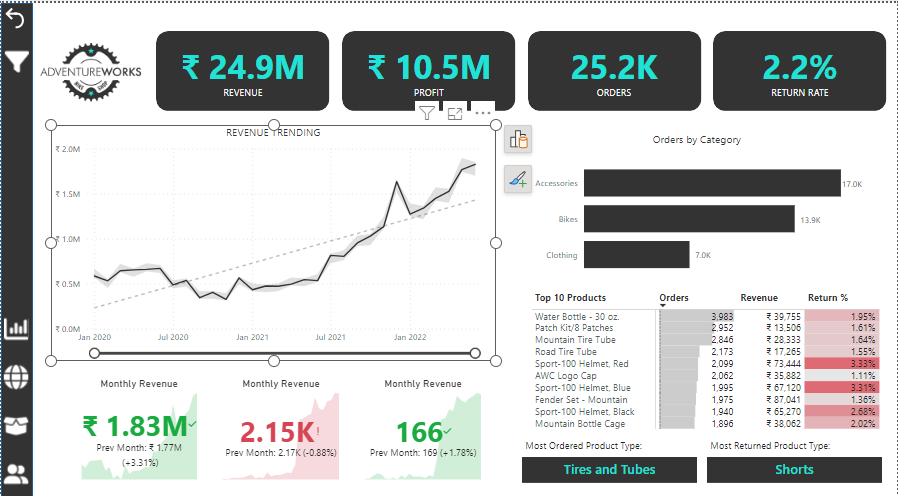

The page's visual inventory and layout, read from the dashboard file:
{"tool":"powerbi","page":{"name":"Exec Dashboard","canvas":[1280,720],"ordinal":0},"visuals":[{"type":"image","title":"AW Logo","box":[36.2,13,185.5,171],"z":0},{"type":"card","fields":{"Values":["Measure Table.Total Revenue"]},"box":[250.7,30.4,191.3,134.8],"z":0,"group":"g2"},{"type":"group","id":"g1","title":"KPI Background","box":[221.7,40.5,1043.5,114.5],"z":0,"group":"g3"},{"type":"shape","box":[487.4,40.5,247.8,114.5],"z":0,"group":"g1"},{"type":"actionButton","box":[0,444.1,43,43],"z":0,"group":"g4"},{"type":"shape","title":"Left Nav Background","box":[0,0,45.6,720.6],"z":1000},{"type":"group","id":"g2","title":"KPI Values","box":[250.7,30.4,987,134.8],"z":1000,"group":"g3"},{"type":"card","fields":{"Values":["Measure Table.Total Profit"]},"box":[515.9,30.4,191.3,134.8],"z":1000,"group":"g2"},{"type":"shape","box":[221.7,40.5,247.8,114.5],"z":1000,"group":"g1"},{"type":"actionButton","box":[0,651.5,43,43],"z":1000,"group":"g4"},{"type":"group","id":"g3","title":"KPIs","box":[221.7,30.4,1043.5,134.8],"z":2000},{"type":"card","fields":{"Values":["Measure Table.Total Orders"]},"box":[781.1,30.4,191.3,134.8],"z":2000,"group":"g2"},{"type":"shape","box":[1017.4,40.5,247.8,114.5],"z":2000,"group":"g1"},{"type":"actionButton","box":[0,513.2,43,43],"z":2000,"group":"g4"},{"type":"card","fields":{"Values":["Measure Table.Return Rate"]},"box":[1046.4,30.4,191.3,134.8],"z":3000,"group":"g2"},{"type":"shape","box":[753.1,40.5,247.8,114.5],"z":3000,"group":"g1"},{"type":"lineChart","title":"REVENUE TRENDING","fields":{"Y":["Measure Table.Total Revenue"],"Category":["Calendar Lookup.Start of Month"]},"box":[72,174.2,635,337],"z":3000},{"type":"actionButton","box":[0,582.3,43,43],"z":3000,"group":"g4"},{"type":"kpi","title":"Monthly Revenue","fields":{"Indicator":["Measure Table.Total Revenue"],"TrendLine":["Calendar Lookup.Start of Month"],"Goal":["Measure Table.Previous Months Revenue"]},"box":[110.3,535.3,175,150],"z":4000},{"type":"kpi","title":"Monthly Revenue","fields":{"TrendLine":["Calendar Lookup.Start of Month"],"Indicator":["Measure Table.Total Orders"],"Goal":["Measure Table.Previous Month Orders"]},"box":[313.2,535.3,175,150],"z":5000},{"type":"kpi","title":"Monthly Revenue","fields":{"TrendLine":["Calendar Lookup.Start of Month"],"Indicator":["Measure Table.Total Returns"],"Goal":["Measure Table.Previous Month Returns"]},"box":[516.2,535.3,175,150],"z":6000},{"type":"clusteredBarChart","title":"Orders by Category","fields":{"Category":["Product Categories Lookup.CategoryName"],"Y":["Measure Table.Total Orders"]},"box":[752.9,183.8,482.4,222.1],"z":7000},{"type":"pivotTable","fields":{"Values":["Measure Table.Total Orders","Measure Table.Total Revenue","Measure Table.Return Rate"],"Rows":["Product Lookup.ProductName"]},"box":[752.9,407.4,510,206],"z":8000},{"type":"card","fields":{"Values":["Min(Product Subcategories Lookup.SubcategoryName)"]},"box":[744.1,648.5,250,36.8],"z":9000},{"type":"textbox","box":[744.1,619.1,214.7,29.4],"z":10000},{"type":"card","fields":{"Values":["Min(Product Subcategories Lookup.SubcategoryName)"]},"box":[1008.5,648.2,250,36.8],"z":11000},{"type":"textbox","box":[1008.5,618.8,214.7,29.4],"z":12000},{"type":"actionButton","box":[0,1.5,45.6,39.7],"z":13000},{"type":"actionButton","box":[1,58.8,42.6,50],"z":14000},{"type":"group","id":"g4","title":"Navigation Button","box":[0,444.1,43,250.4],"z":16000}]}

Visuals, with their boxes on the page's 1280x720 design canvas (x1, y1, x2, y2). These are canvas units, not pixel positions in the 898x496 screenshot, which may show the page scaled, cropped or inside an application window:
"AW Logo" image: left=36, top=13, right=222, bottom=184
card - Measure Table.Total Revenue: left=251, top=30, right=442, bottom=165
"KPI Background" group: left=222, top=40, right=1265, bottom=155
shape: left=487, top=40, right=735, bottom=155
actionButton: left=0, top=444, right=43, bottom=487
"Left Nav Background" shape: left=0, top=0, right=46, bottom=721
"KPI Values" group: left=251, top=30, right=1238, bottom=165
card - Measure Table.Total Profit: left=516, top=30, right=707, bottom=165
shape: left=222, top=40, right=470, bottom=155
actionButton: left=0, top=652, right=43, bottom=694
"KPIs" group: left=222, top=30, right=1265, bottom=165
card - Measure Table.Total Orders: left=781, top=30, right=972, bottom=165
shape: left=1017, top=40, right=1265, bottom=155
actionButton: left=0, top=513, right=43, bottom=556
card - Measure Table.Return Rate: left=1046, top=30, right=1238, bottom=165
shape: left=753, top=40, right=1001, bottom=155
"REVENUE TRENDING" lineChart: left=72, top=174, right=707, bottom=511
actionButton: left=0, top=582, right=43, bottom=625
"Monthly Revenue" kpi: left=110, top=535, right=285, bottom=685
"Monthly Revenue" kpi: left=313, top=535, right=488, bottom=685
"Monthly Revenue" kpi: left=516, top=535, right=691, bottom=685
"Orders by Category" clusteredBarChart: left=753, top=184, right=1235, bottom=406
pivotTable - Measure Table.Total Orders x Measure Table.Total Revenue: left=753, top=407, right=1263, bottom=613
card - Min(Product Subcategories Lookup.SubcategoryName): left=744, top=648, right=994, bottom=685
textbox: left=744, top=619, right=959, bottom=648
card - Min(Product Subcategories Lookup.SubcategoryName): left=1008, top=648, right=1258, bottom=685
textbox: left=1008, top=619, right=1223, bottom=648
actionButton: left=0, top=2, right=46, bottom=41
actionButton: left=1, top=59, right=44, bottom=109
"Navigation Button" group: left=0, top=444, right=43, bottom=694
